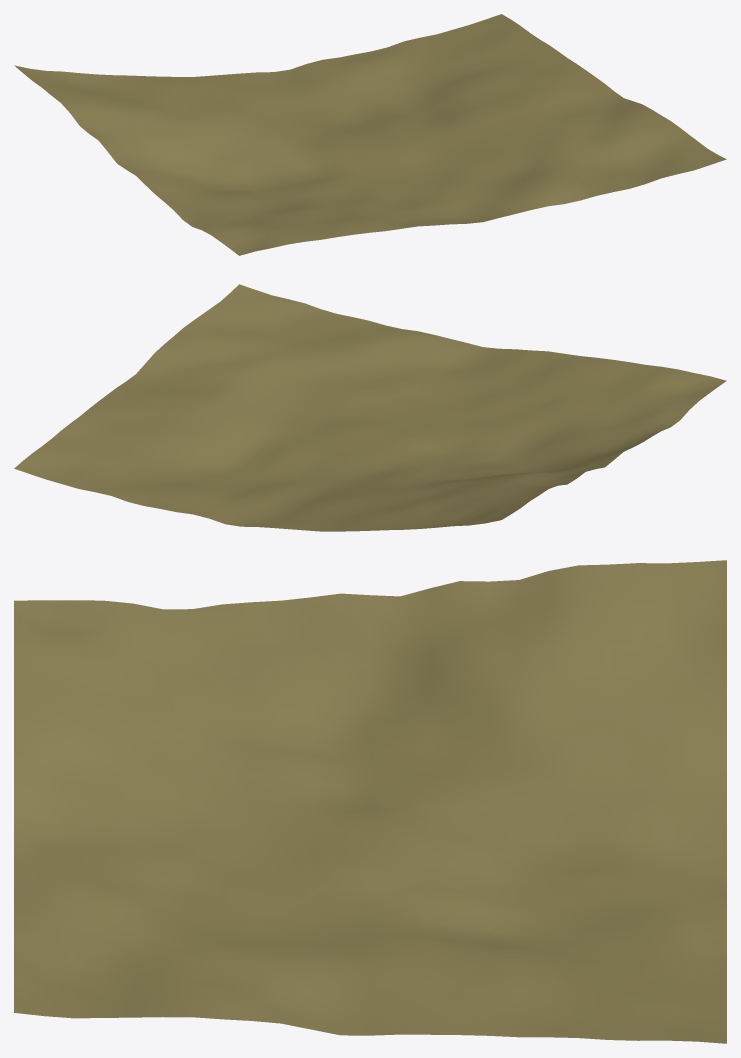
3 views of the same model, one above another, from view 1: azimuth 30°, elevation 25°; view 2: azimuth 150°, elevation 25°; view 3: azimuth 270°, elevation 25° (orthographic). The views are drawn at different scales.
Parts seen in each view (by area): view 1: world-ground/210-144; view 2: world-ground/210-144; view 3: world-ground/210-144.
Boxes of the visible parts, <box> form: world-ground/210-144: <box>14,14,726,255</box>; world-ground/210-144: <box>14,284,726,531</box>; world-ground/210-144: <box>14,560,726,1043</box>.
Size of the model in its own units: 37.5 by 5.61 by 30.
